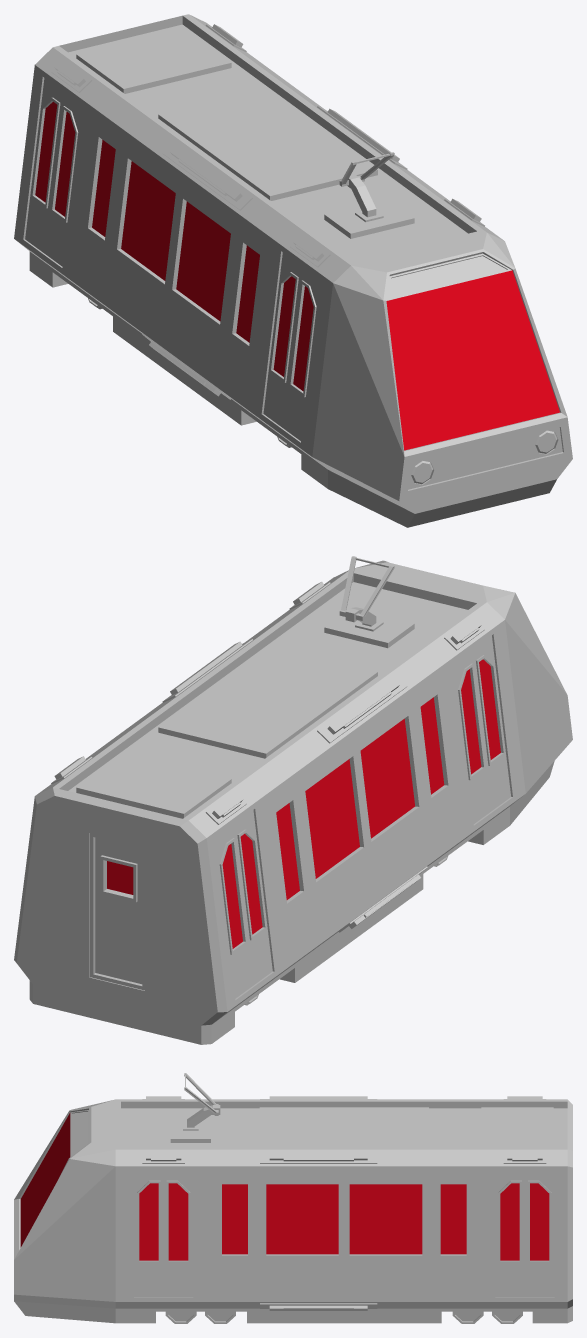
File: SM_suburban_electric_train_01.gltf
3 views of the same model, one above another, from view 1: azimuth 30°, elevation 25°; view 2: azimuth 150°, elevation 25°; view 3: azimuth 270°, elevation 25° (orthographic). The views are drawn at different scales.
Parts seen in each view (by area): view 1: suburban_electric_train_01; view 2: suburban_electric_train_01; view 3: suburban_electric_train_01.
Boxes of the visible parts, x1,y1,x2,y2 form: suburban_electric_train_01: [14, 14, 572, 527]; suburban_electric_train_01: [14, 556, 572, 1044]; suburban_electric_train_01: [14, 1073, 572, 1323].
Bounding box in the file's own units: 1.63 × 2.11 × 4.89.
